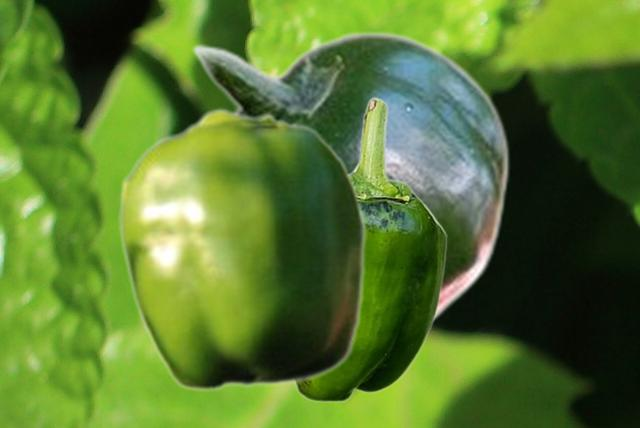bell_pepper: (187, 30, 509, 327), (118, 107, 366, 391), (293, 96, 446, 402)
